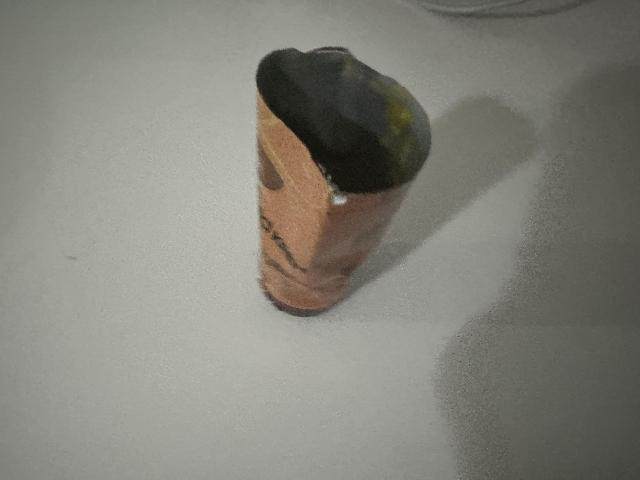Plastik: (253, 45, 430, 315)
